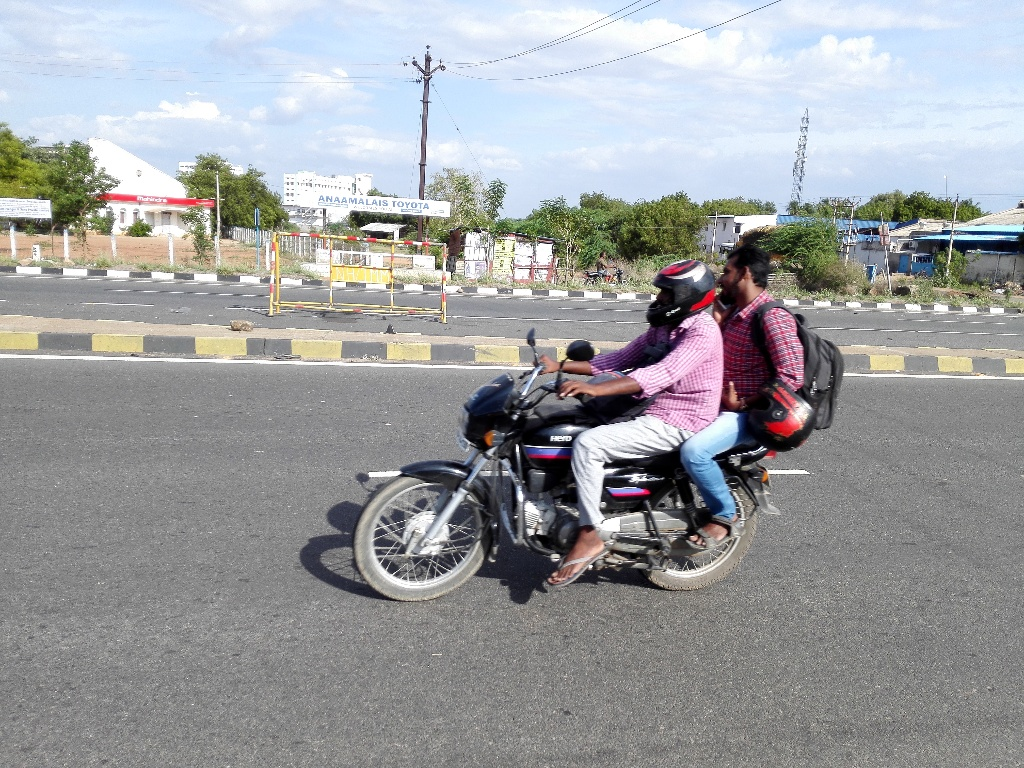biker: (316, 163, 862, 633)
helmet: (640, 246, 720, 336)
nohelmet: (717, 231, 790, 313)
